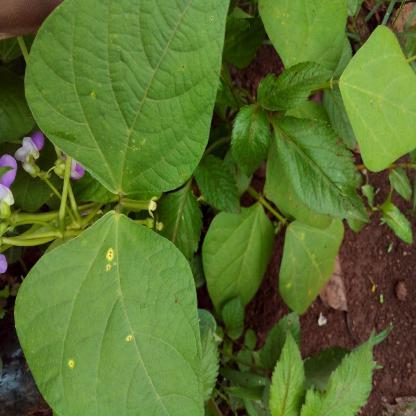Beans_Rust: (22, 0, 229, 195), (17, 214, 201, 416), (278, 212, 346, 317)
